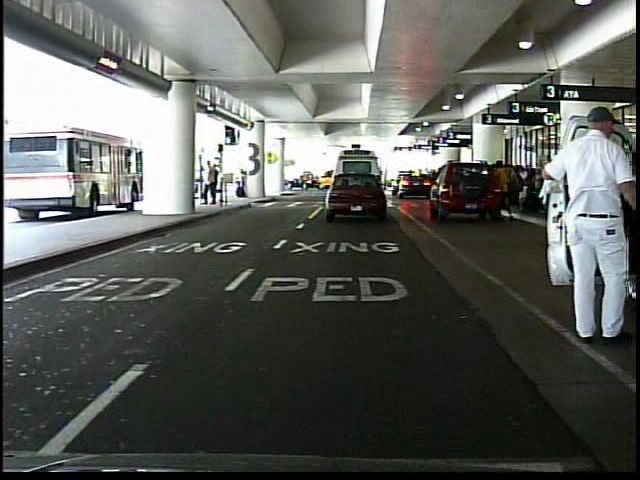person: (536, 101, 634, 351), (581, 149, 610, 224), (497, 157, 516, 223), (202, 155, 219, 209), (236, 165, 253, 202)
